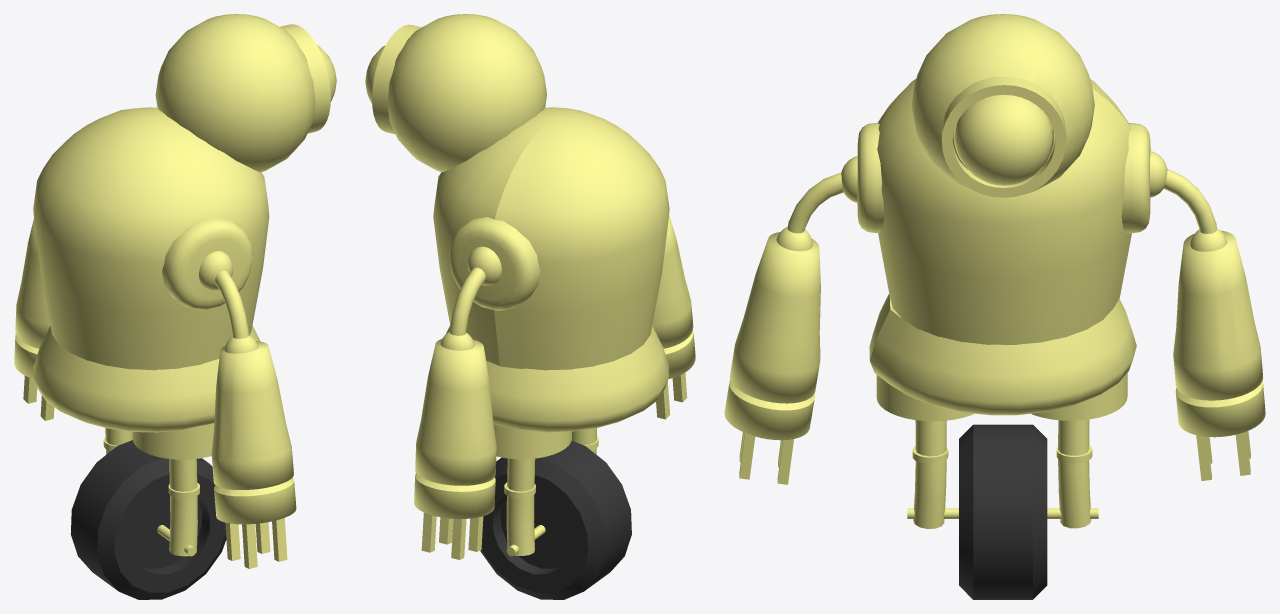
The model's file is Prueba_Robot.FBX.
3 views of the same model, side by side, from view 1: azimuth 30°, elevation 25°; view 2: azimuth 150°, elevation 25°; view 3: azimuth 270°, elevation 25° (orthographic). The views are drawn at different scales.
Visible parts, largest first — view 1: Prueba_Robot; view 2: Prueba_Robot; view 3: Prueba_Robot.
Part boxes in pixels (x1,y1,x2,y2): Prueba_Robot: (14,14,336,599); Prueba_Robot: (365,14,695,599); Prueba_Robot: (724,14,1265,599).
Size of what is drawn, in the model's own units: 166 by 245 by 308.
